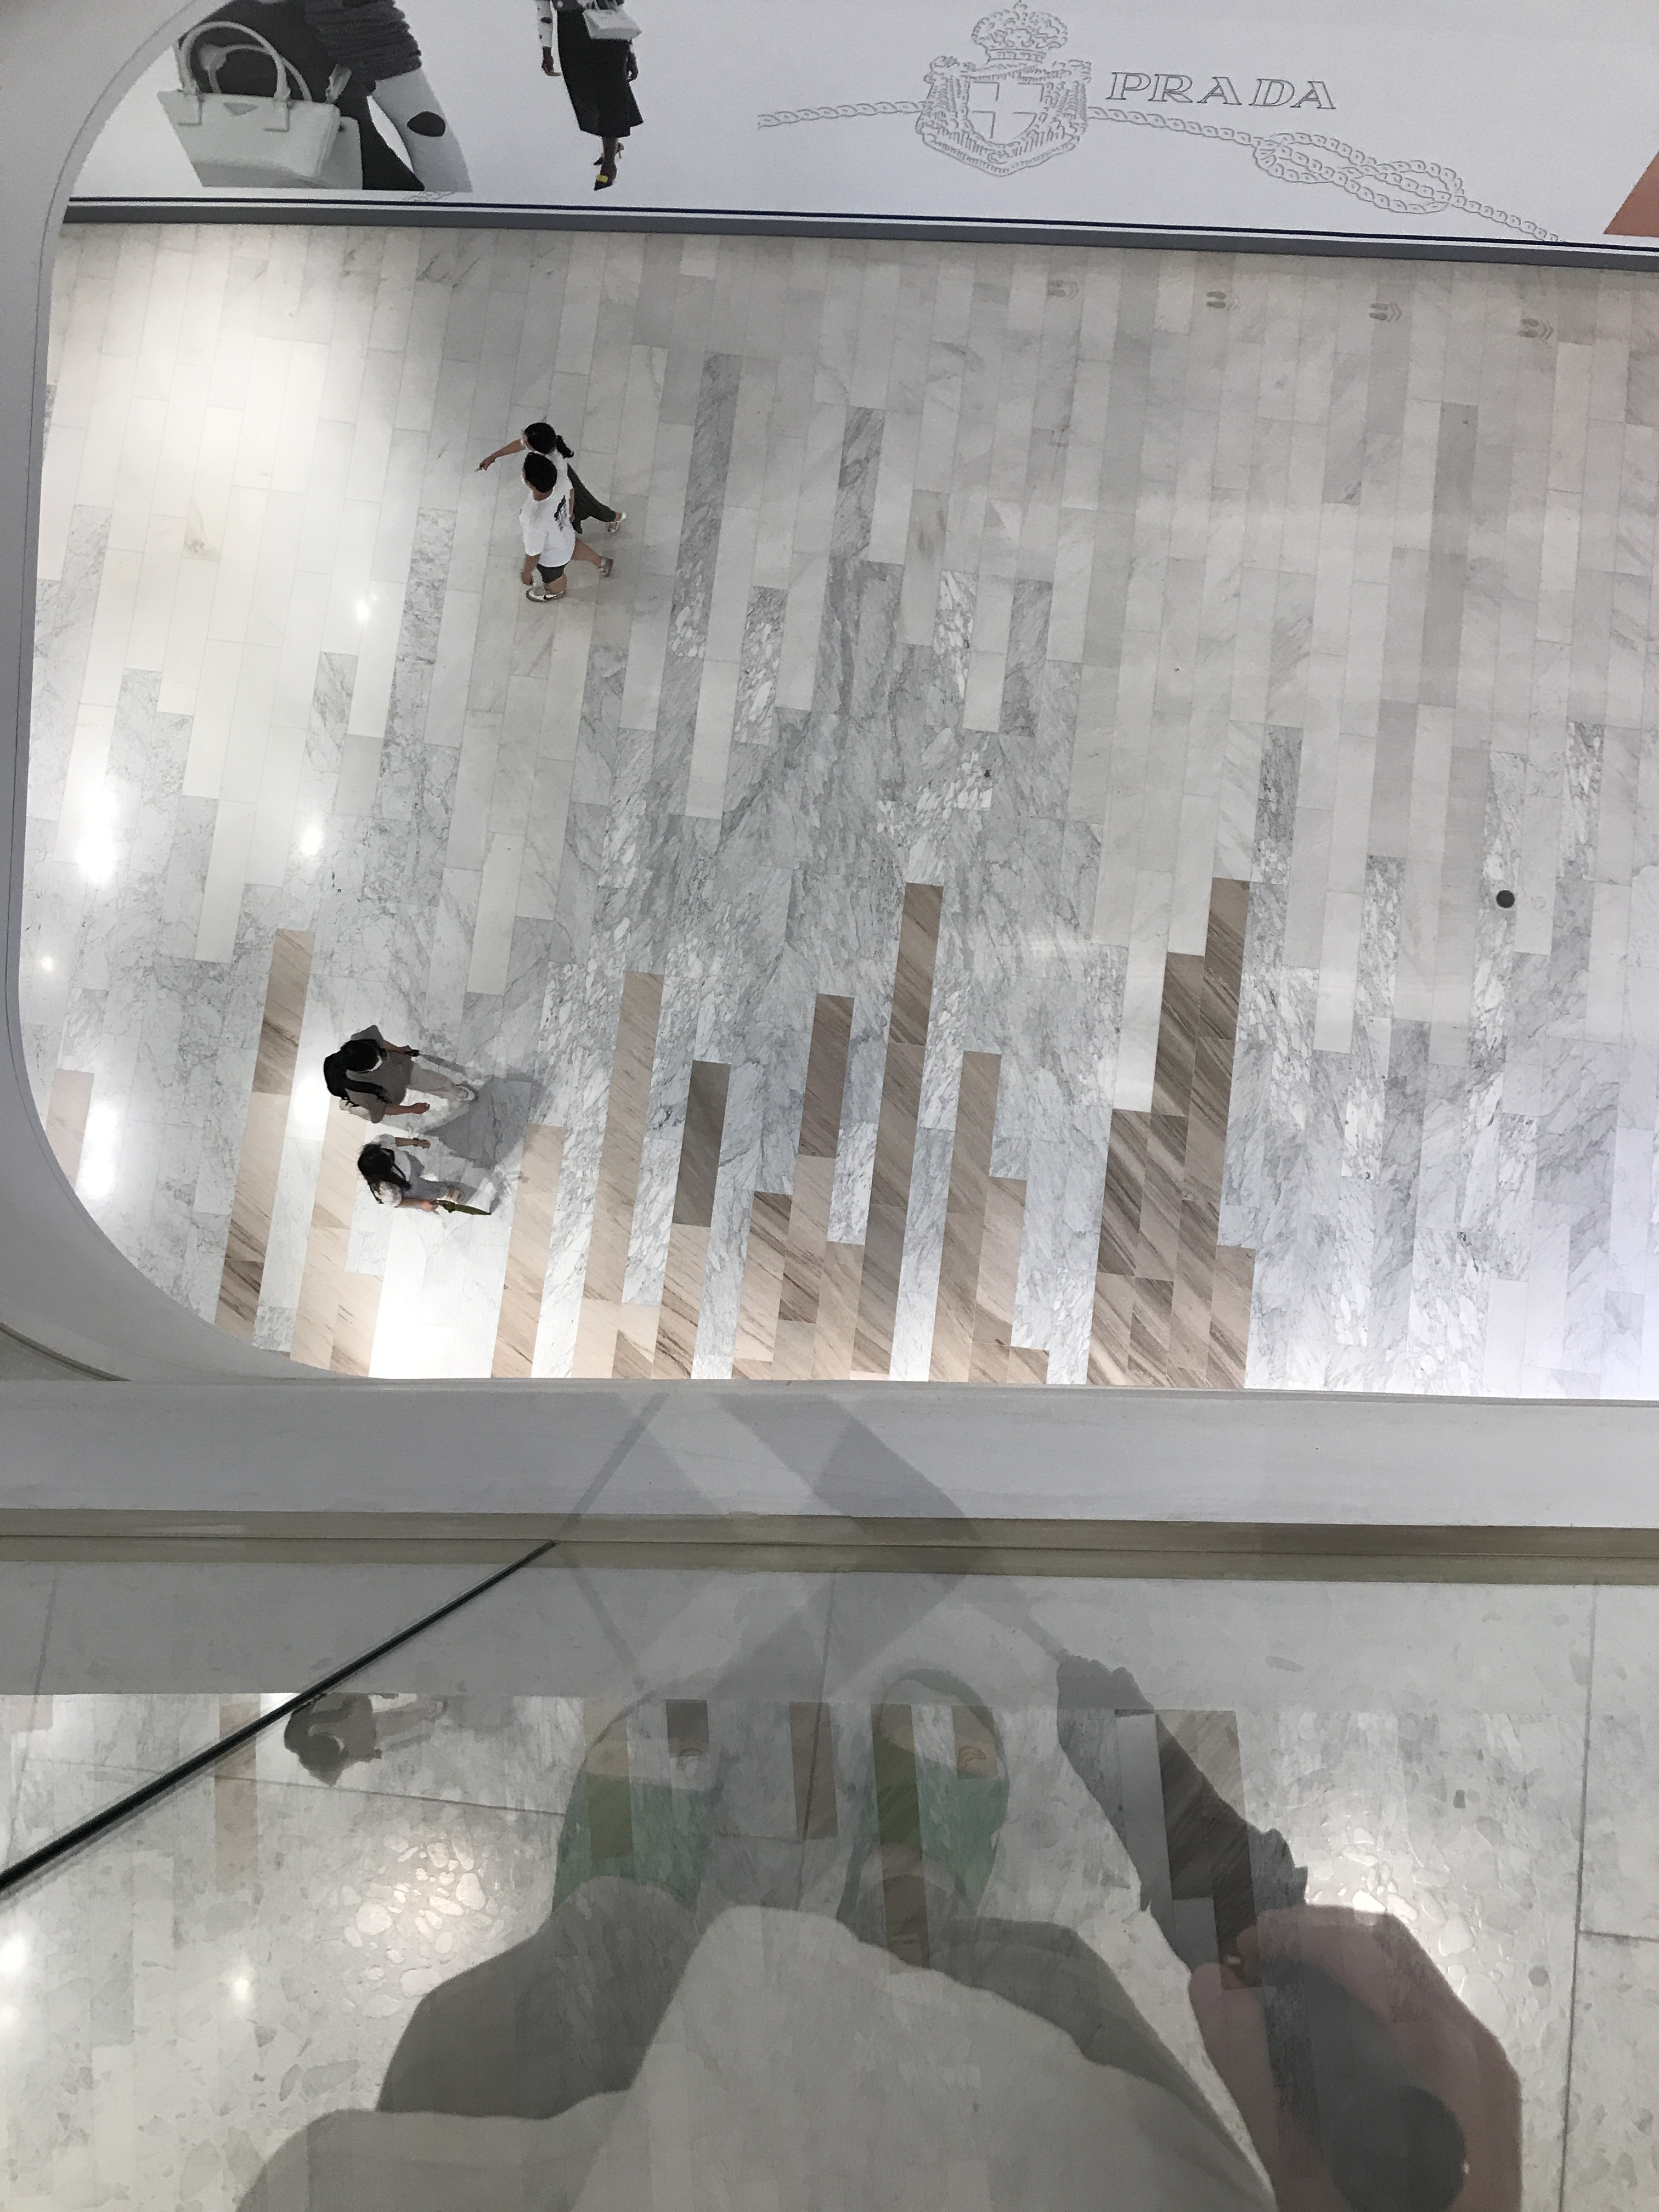person: (477, 420, 627, 537), (517, 453, 616, 602), (323, 1025, 477, 1122), (356, 1133, 464, 1215)
